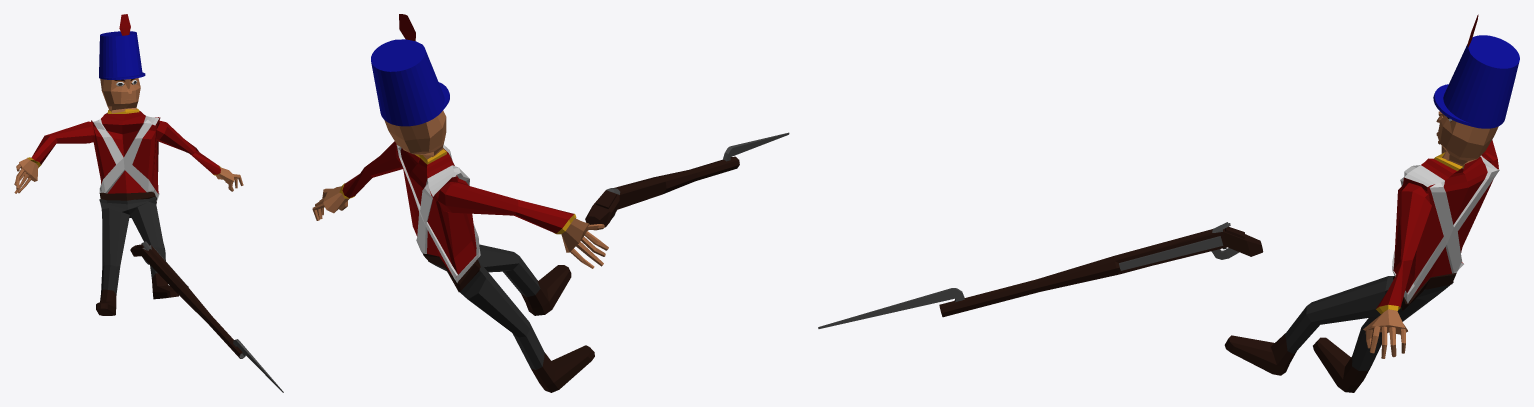
The model's file is frame2.obj.
3 views of the same model, side by side, from view 1: azimuth 30°, elevation 25°; view 2: azimuth 150°, elevation 25°; view 3: azimuth 270°, elevation 25° (orthographic). The views are drawn at different scales.
Visible parts, largest first — view 1: {Man}_Circle, {Mesket}_Cube.001; view 2: {Man}_Circle, {Mesket}_Cube.001; view 3: {Man}_Circle, {Mesket}_Cube.001.
Boxes of the visible parts, x1,y1,x2,y2 form: {Man}_Circle: (14, 14, 243, 315); {Mesket}_Cube.001: (130, 241, 283, 392); {Man}_Circle: (312, 14, 608, 392); {Mesket}_Cube.001: (585, 132, 789, 227); {Man}_Circle: (1224, 14, 1519, 392); {Mesket}_Cube.001: (818, 222, 1263, 328).
Size of the model in its own units: 12.94 by 15.49 by 23.52.
